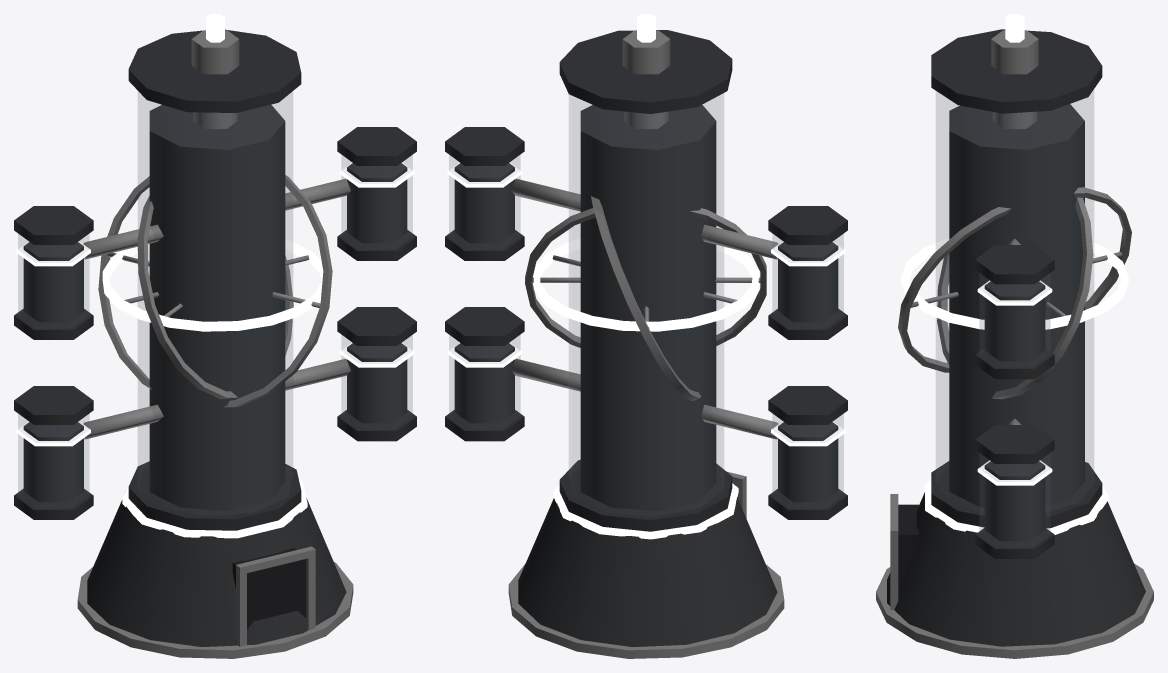
File: Skin_Reactor_T4.glb
3 renders of one model, left to right at view 1: azimuth 30°, elevation 25°; view 2: azimuth 150°, elevation 25°; view 3: azimuth 270°, elevation 25°, orthographic.
Parts seen in each view (by area): view 1: Skin_Reactor_T4; view 2: Skin_Reactor_T4; view 3: Skin_Reactor_T4.
Part boxes in pixels (x1,y1,x2,y2): Skin_Reactor_T4: (14,14,416,658); Skin_Reactor_T4: (445,14,847,658); Skin_Reactor_T4: (876,14,1153,658).
Bounding box in the file's own units: 5.57 × 8.1 × 3.5.
